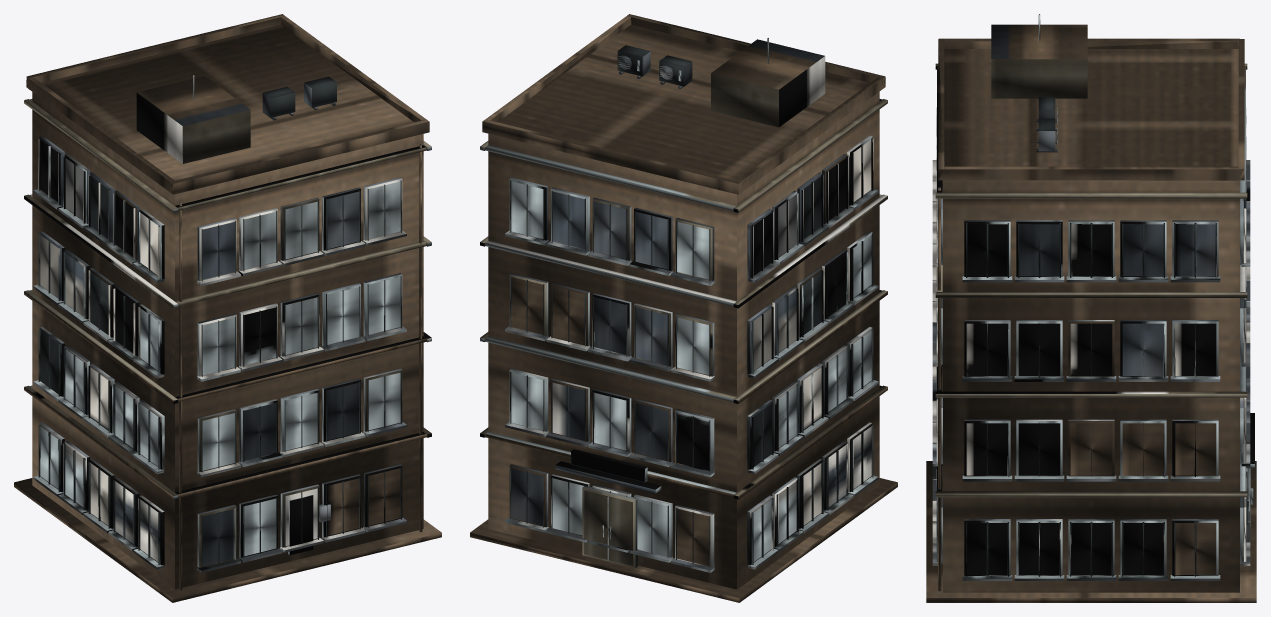
Rendered from office_001.lod1.obj.
3 views of the same model, side by side, from view 1: azimuth 30°, elevation 25°; view 2: azimuth 150°, elevation 25°; view 3: azimuth 270°, elevation 25° (orthographic). The views are drawn at different scales.
Visible parts, largest first — view 1: office_001; view 2: office_001; view 3: office_001.
Part boxes in pixels (left/top/right/bottom): office_001: left=14, top=14, right=441, bottom=602; office_001: left=470, top=14, right=897, bottom=602; office_001: left=926, top=14, right=1256, bottom=602.
Bounding box in the file's own units: 8.74 × 14.57 × 8.9.
Materials: 1 (1 with a texture image).
